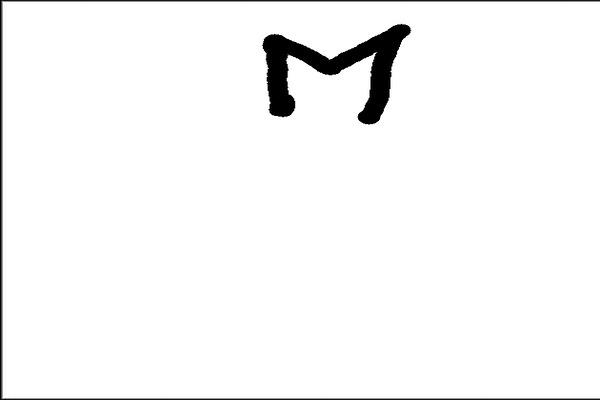M: (259, 22, 409, 122)
